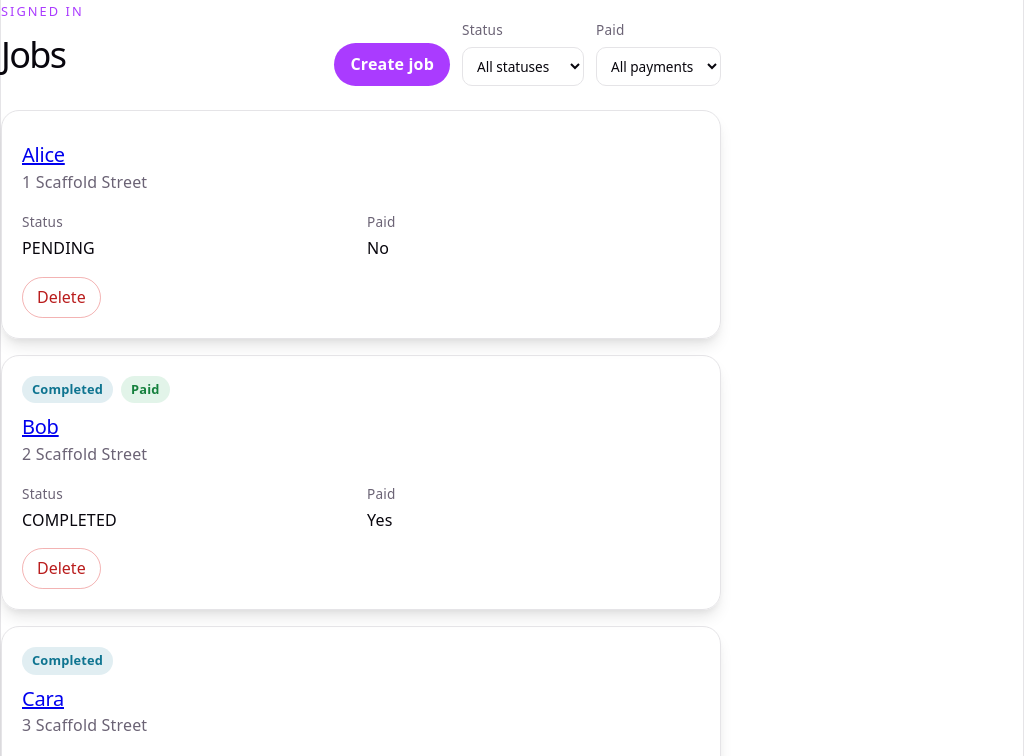
Test case: JobsView › filters jobs by status and paid values
The width and height of the screenshot is (1024, 756).
Select "COMPLETED" in the dropdown labelled "Status" at (523, 67), box [462, 47, 584, 86]
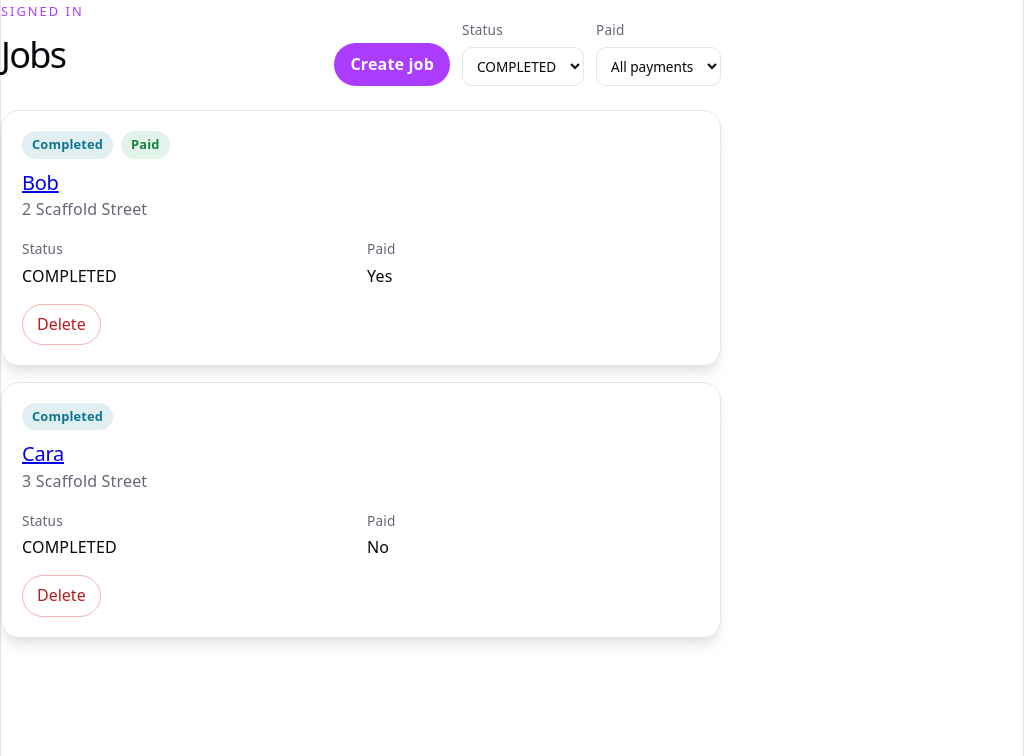
Check: the link "Bob" is shown, box [22, 169, 59, 196]
Check: the link "Alice" is gone
Select "Paid" in the dropdown labelled "Paid" at (658, 67), box [596, 47, 721, 86]
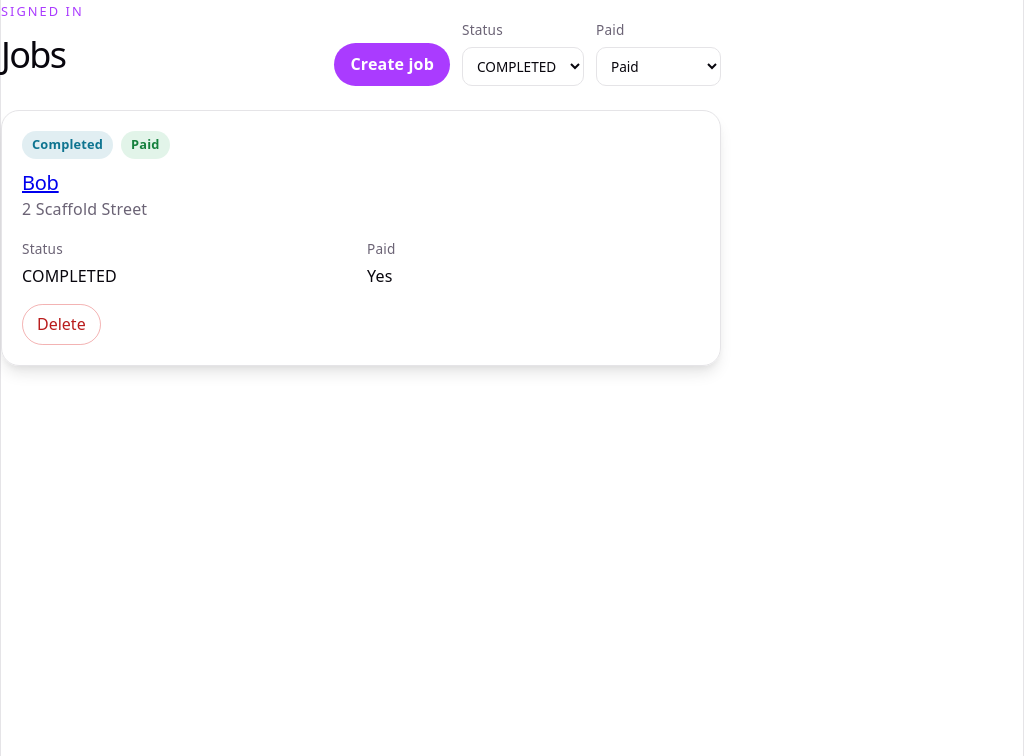
Check: the link "Bob" is shown, box [22, 169, 59, 196]
Check: the link "Cara" is gone
Select "PENDING" in the dropdown labelled "Status" at (523, 67), box [462, 47, 584, 86]
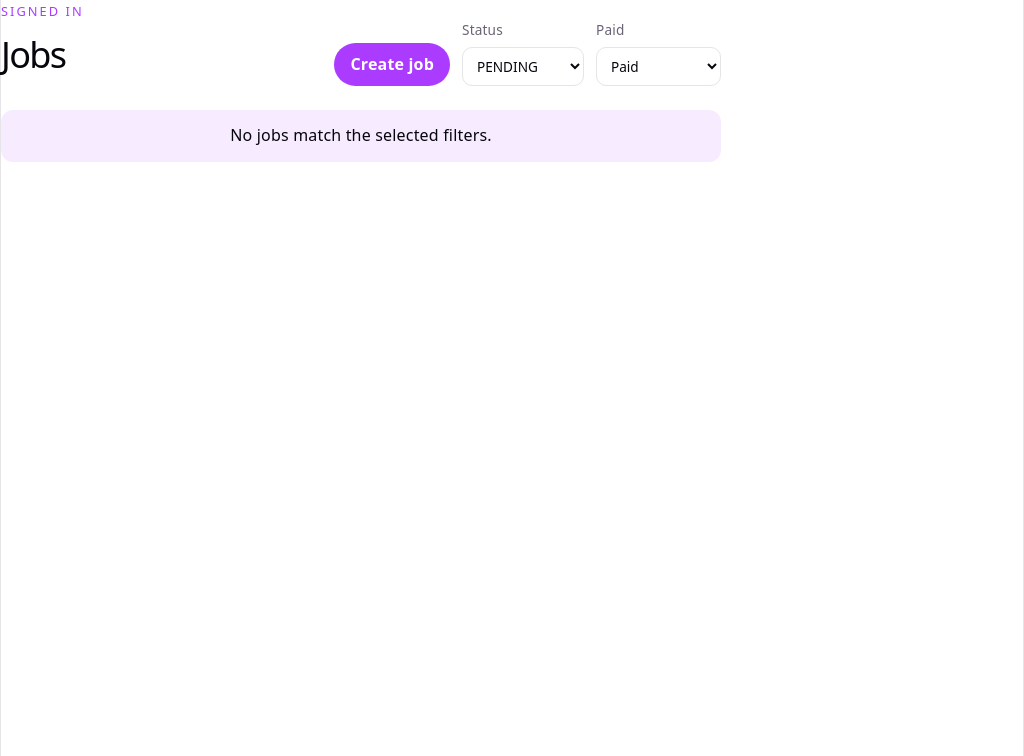
Check: the text "No jobs match the selected filters." is shown, box [1, 110, 721, 162]
Check: the link "Bob" is gone
